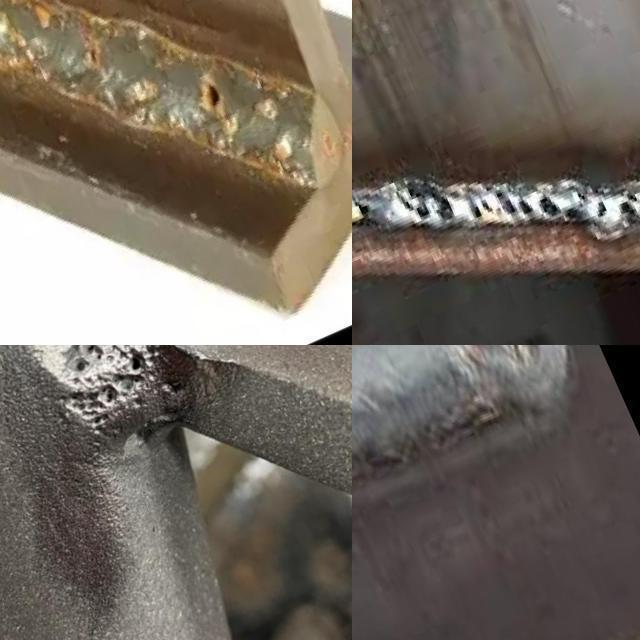defect: (68, 345, 154, 441), (397, 175, 457, 227), (468, 192, 536, 227), (534, 194, 585, 224), (69, 345, 112, 375), (613, 181, 640, 223), (201, 76, 224, 109), (83, 36, 102, 66), (352, 195, 374, 220), (593, 197, 611, 222)
